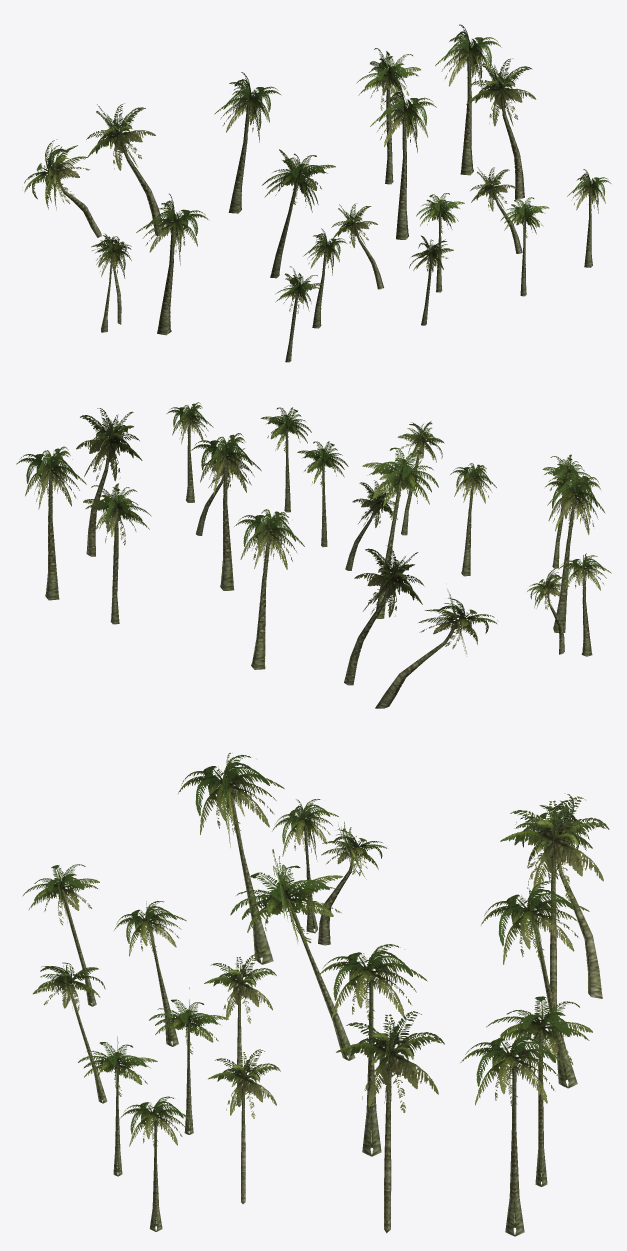
The model's file is vegetation_low.fbx.
3 views of the same model, one above another, from view 1: azimuth 30°, elevation 25°; view 2: azimuth 150°, elevation 25°; view 3: azimuth 270°, elevation 25° (orthographic). The views are drawn at different scales.
Parts seen in each view (by area): view 1: guy_area_01_vegetation2R_pivot_guy_vegetation_alpha1L_LOD3; view 2: guy_area_01_vegetation2R_pivot_guy_vegetation_alpha1L_LOD3; view 3: guy_area_01_vegetation2R_pivot_guy_vegetation_alpha1L_LOD3.
Part boxes in pixels (bbox=[...]): guy_area_01_vegetation2R_pivot_guy_vegetation_alpha1L_LOD3: bbox=[22, 24, 611, 362]; guy_area_01_vegetation2R_pivot_guy_vegetation_alpha1L_LOD3: bbox=[16, 402, 611, 708]; guy_area_01_vegetation2R_pivot_guy_vegetation_alpha1L_LOD3: bbox=[22, 752, 609, 1236].
Bounding box in the file's own units: 206 × 64.17 × 154.
1 material, 1 textured.
